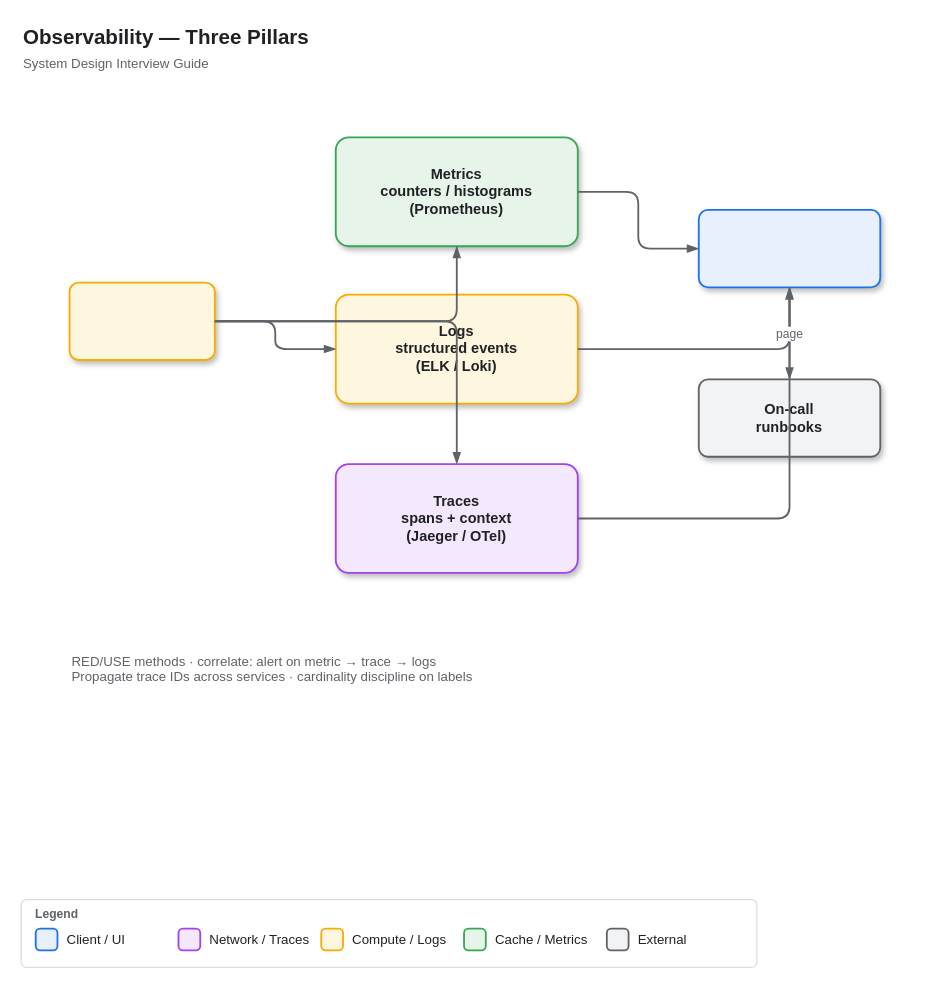
Some shapes in this 938 by 989 pixel diagram are drawn without their labels. Here are the shapes that lost their labels. From the top down, the centre of each, then its label:
pixel 790 250: Dashboards & alerts
pixel 142 322: Services
